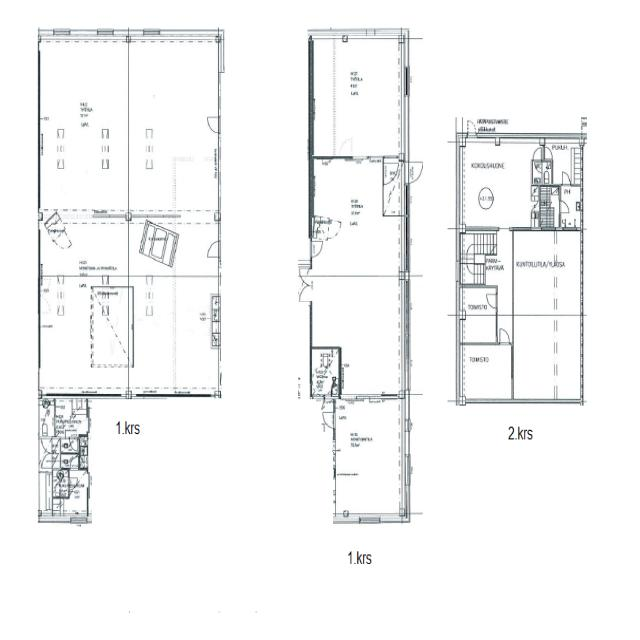door: (404, 162, 424, 184), (382, 163, 398, 184), (321, 412, 337, 430), (206, 116, 221, 134), (206, 240, 221, 258), (314, 394, 326, 416), (299, 285, 314, 302), (299, 269, 314, 286), (310, 241, 325, 257), (500, 327, 510, 346), (486, 295, 497, 308), (69, 436, 78, 451), (562, 172, 571, 187), (68, 477, 78, 490), (542, 146, 552, 158), (559, 201, 569, 213), (54, 417, 63, 429), (533, 149, 541, 162), (70, 457, 78, 469), (535, 164, 542, 172)
